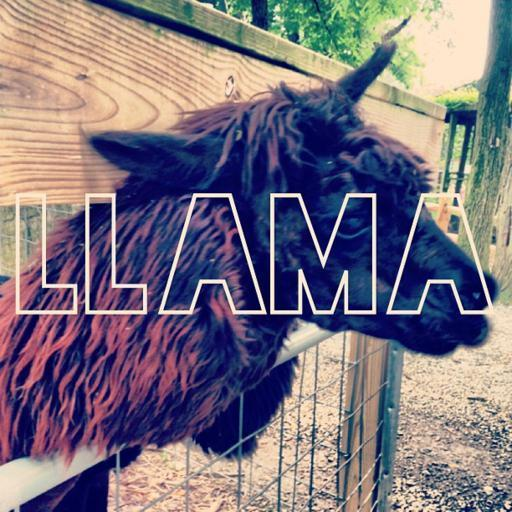horse: (0, 38, 500, 511)
